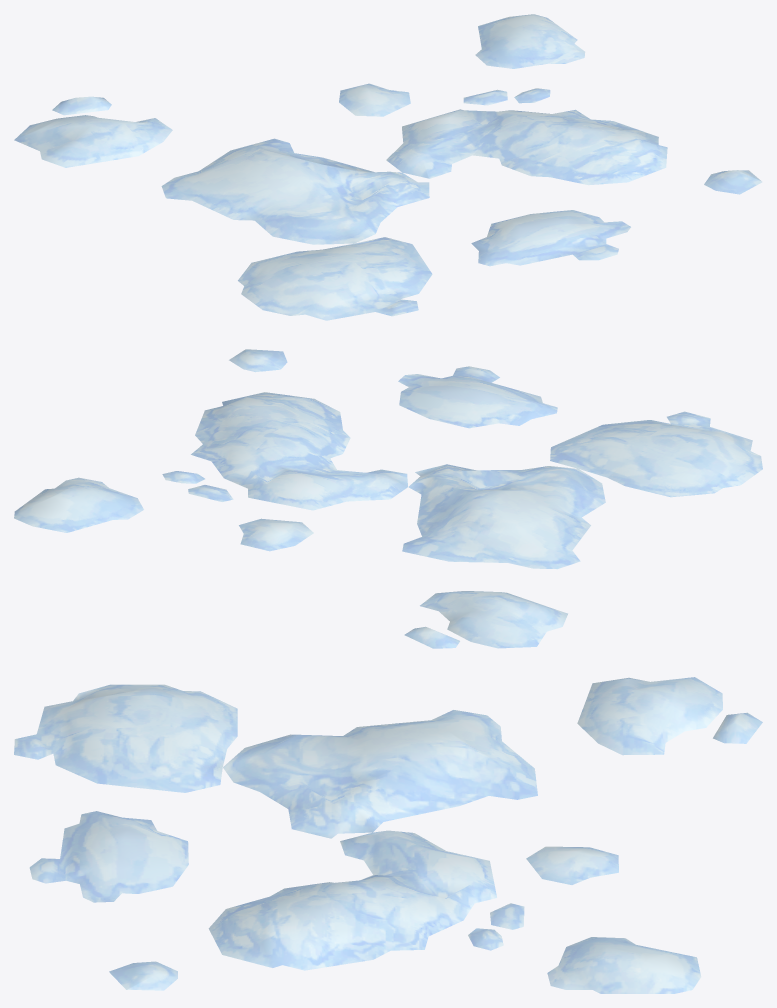
The model's file is hth_env_snow_plops.glb.
3 views of the same model, one above another, from view 1: azimuth 30°, elevation 25°; view 2: azimuth 150°, elevation 25°; view 3: azimuth 270°, elevation 25° (orthographic). The views are drawn at different scales.
Visible parts, largest first — view 1: hth_env_snow_plops; view 2: hth_env_snow_plops; view 3: hth_env_snow_plops.
Part boxes in pixels (x1,y1,x2,y2): hth_env_snow_plops: [14, 14, 762, 320]; hth_env_snow_plops: [14, 349, 762, 648]; hth_env_snow_plops: [14, 677, 762, 993].
Bounding box in the file's own units: 0.9193 × 0.037 × 0.9183.
1 material, 1 textured.
